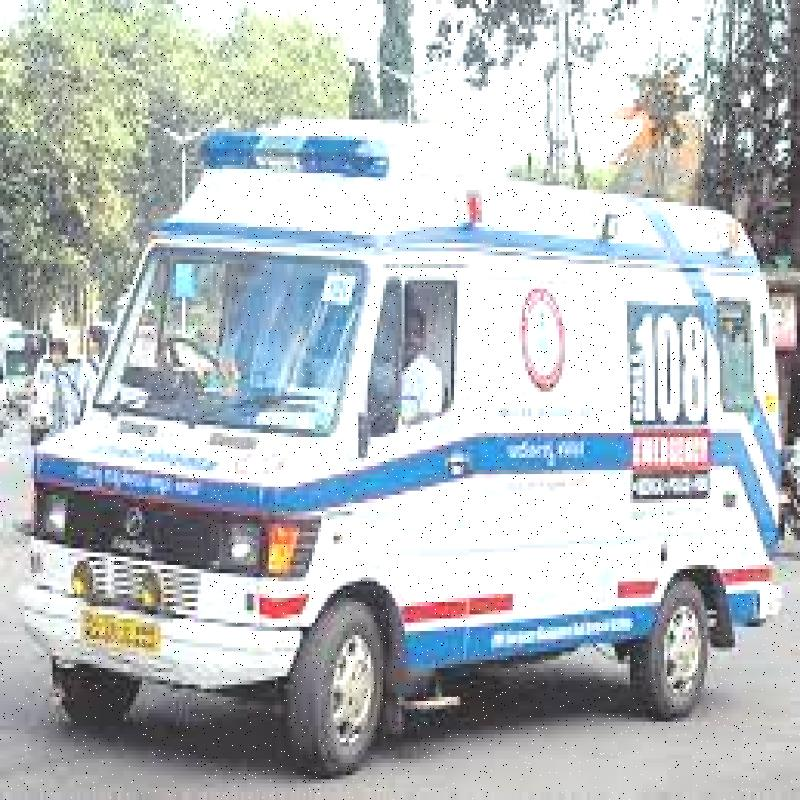ambulance: (48, 143, 772, 744)
